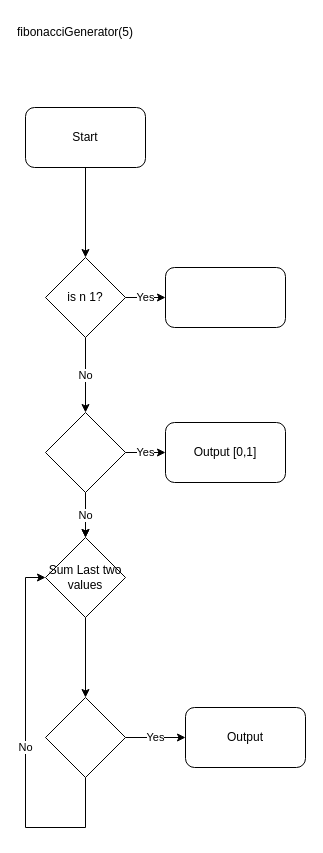
Image size: 323x853. Some labels were removed from this diagram. Each missing label, with the box of its shape:
Does N equals number of items in outpout?: (44, 696, 126, 778)
is n 2?: (44, 412, 126, 492)
Output [0]: (164, 266, 286, 328)
